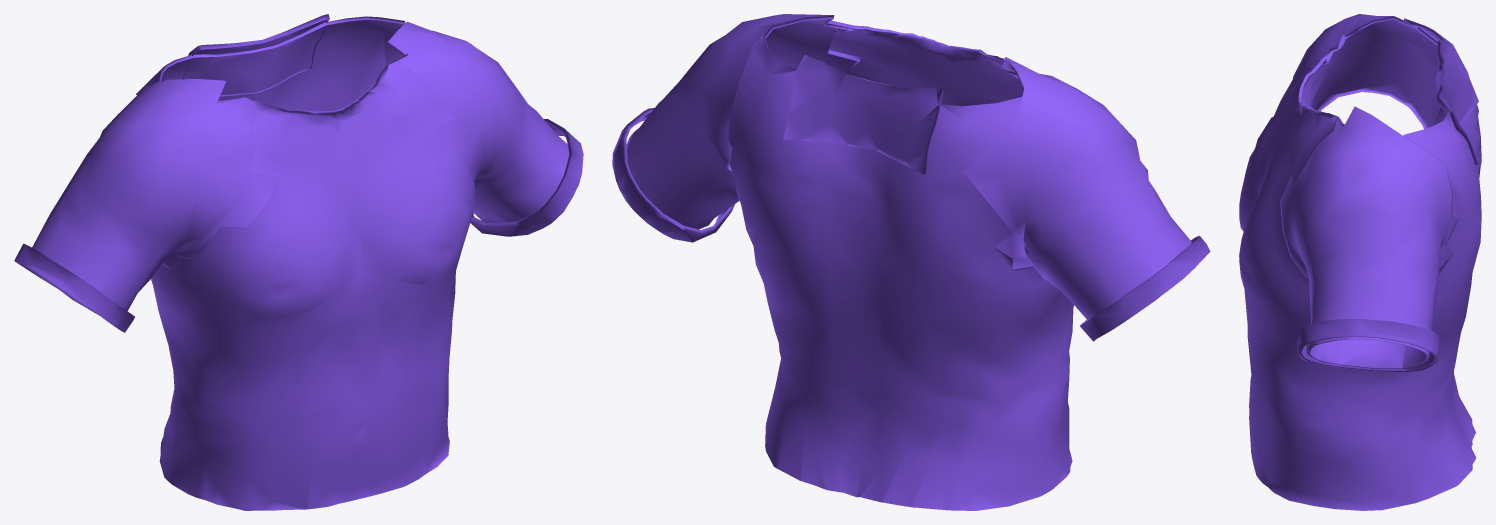
The model's file is tshirt-violet-v1.glb.
3 views of the same model, side by side, from view 1: azimuth 30°, elevation 25°; view 2: azimuth 150°, elevation 25°; view 3: azimuth 270°, elevation 25° (orthographic). The views are drawn at different scales.
Visible parts, largest first — view 1: tshirt_body, tshirt_sleeve_R, tshirt_sleeve_L, tshirt_cuff_L, tshirt_cuff_R, tshirt_collar; view 2: tshirt_body, tshirt_sleeve_R, tshirt_sleeve_L, tshirt_collar, tshirt_cuff_R, tshirt_cuff_L; view 3: tshirt_body, tshirt_sleeve_L, tshirt_sleeve_R, tshirt_cuff_L, tshirt_collar.
Part boxes in pixels (left/top/right/bottom): tshirt_body: left=136, top=16, right=474, bottom=510; tshirt_sleeve_R: left=23, top=79, right=282, bottom=322; tshirt_sleeve_L: left=383, top=21, right=568, bottom=223; tshirt_cuff_L: left=470, top=119, right=583, bottom=236; tshirt_cuff_R: left=14, top=243, right=134, bottom=332; tshirt_collar: left=183, top=14, right=329, bottom=96; tshirt_body: left=725, top=20, right=1073, bottom=510; tshirt_sleeve_R: left=962, top=57, right=1192, bottom=320; tshirt_sleeve_L: left=626, top=14, right=859, bottom=229; tshirt_collar: left=783, top=55, right=943, bottom=174; tshirt_cuff_R: left=1080, top=236, right=1210, bottom=341; tshirt_cuff_L: left=612, top=108, right=734, bottom=242; tshirt_body: left=1239, top=18, right=1481, bottom=510; tshirt_sleeve_L: left=1281, top=106, right=1457, bottom=369; tshirt_sleeve_R: left=1274, top=14, right=1445, bottom=129; tshirt_cuff_L: left=1297, top=319, right=1440, bottom=372; tshirt_collar: left=1436, top=39, right=1478, bottom=164.
Bounding box in the file's own units: 0.7177 × 0.5059 × 0.2881.
